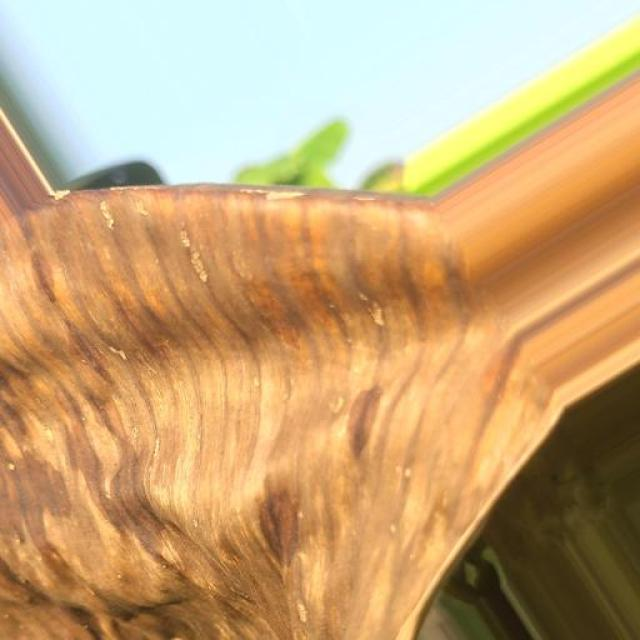Bract_mosaic_virus: (0, 82, 640, 640)
